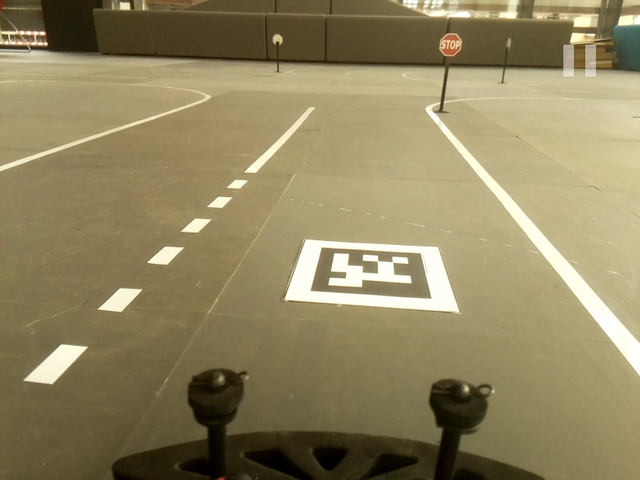stop: (439, 32, 462, 56)
